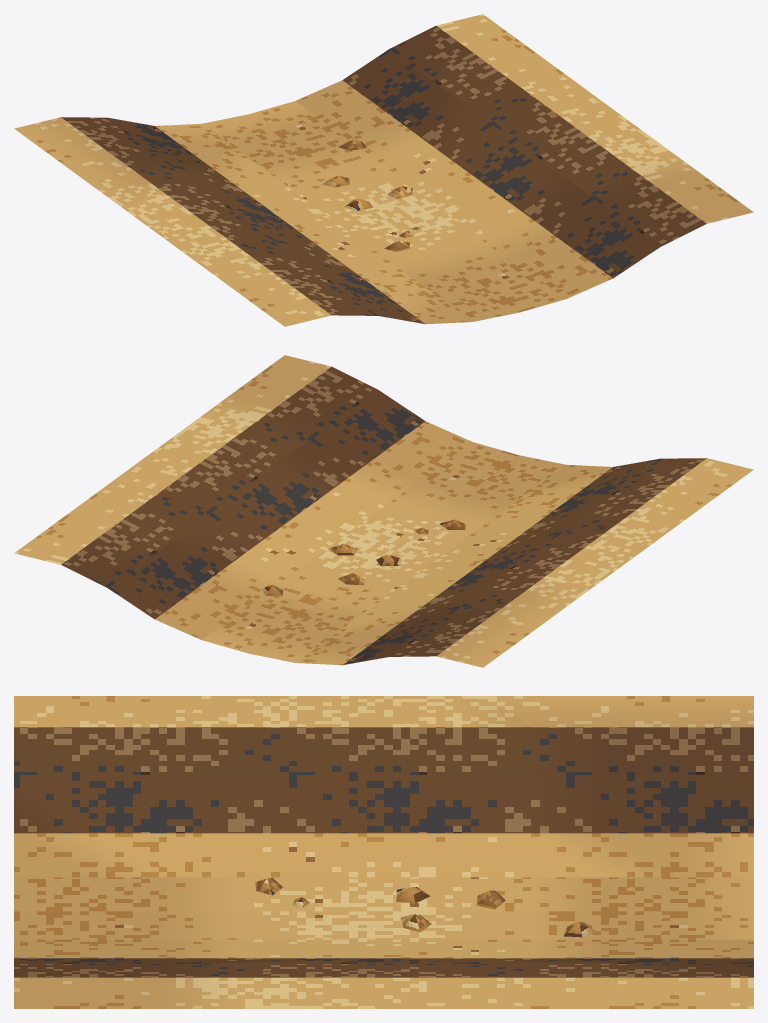
File: wland.riverbed.glb
The picture shows the model from 3 angles, top to bottom: view 1: azimuth 30°, elevation 25°; view 2: azimuth 150°, elevation 25°; view 3: azimuth 270°, elevation 25°; orthographic projection. The views are drawn at different scales.
Parts seen in each view (by area): view 1: kit_shell_ground, kit_stones; view 2: kit_shell_ground, kit_stones; view 3: kit_shell_ground, kit_stones.
Boxes of the visible parts, x1,y1,x2,y2 form: kit_shell_ground: (14, 14, 753, 326); kit_stones: (321, 139, 413, 251); kit_shell_ground: (14, 355, 753, 667); kit_stones: (260, 519, 465, 595); kit_shell_ground: (14, 696, 753, 1008); kit_stones: (255, 878, 594, 937).
Size of the model in its own units: 8 by 0.7 by 8.
4 materials, 4 textured.
